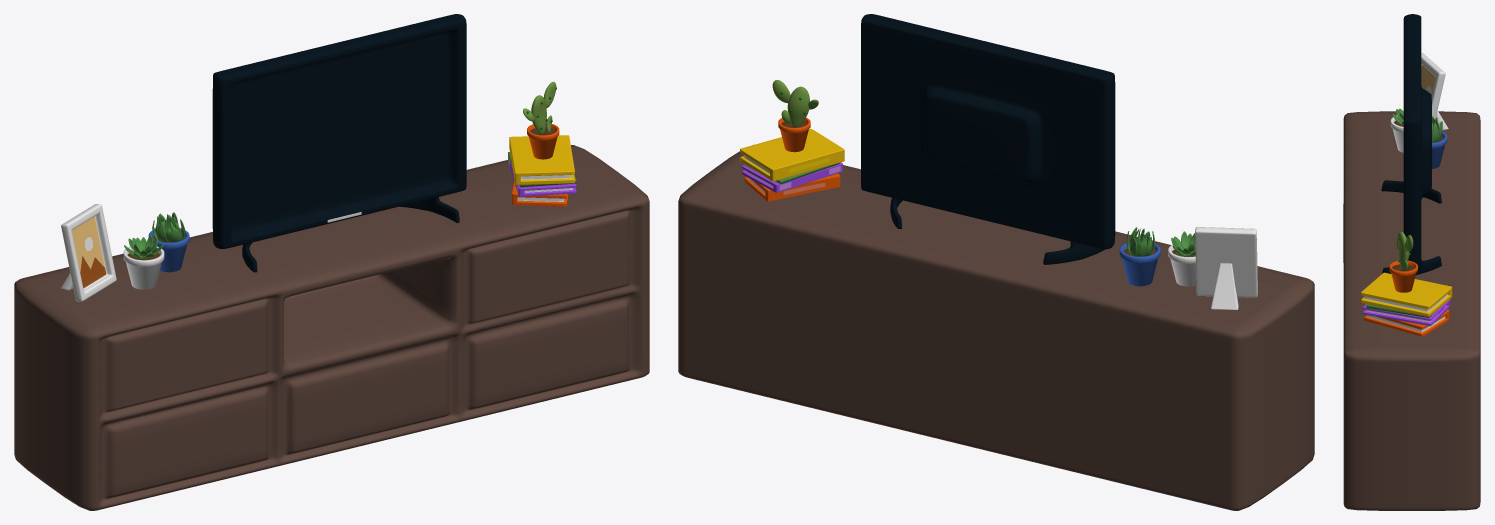
Rendered from TV Set.fbx.
3 views of the same model, side by side, from view 1: azimuth 30°, elevation 25°; view 2: azimuth 150°, elevation 25°; view 3: azimuth 270°, elevation 25° (orthographic). The views are drawn at different scales.
Visible parts, largest first — view 1: Sukulen 3.001; view 2: Sukulen 3.001; view 3: Sukulen 3.001.
Part boxes in pixels (<box>): Sukulen 3.001: <box>14,14,649,510</box>; Sukulen 3.001: <box>678,14,1314,510</box>; Sukulen 3.001: <box>1343,14,1480,510</box>.
Bounding box in the file's own units: 452 × 280 × 106.
